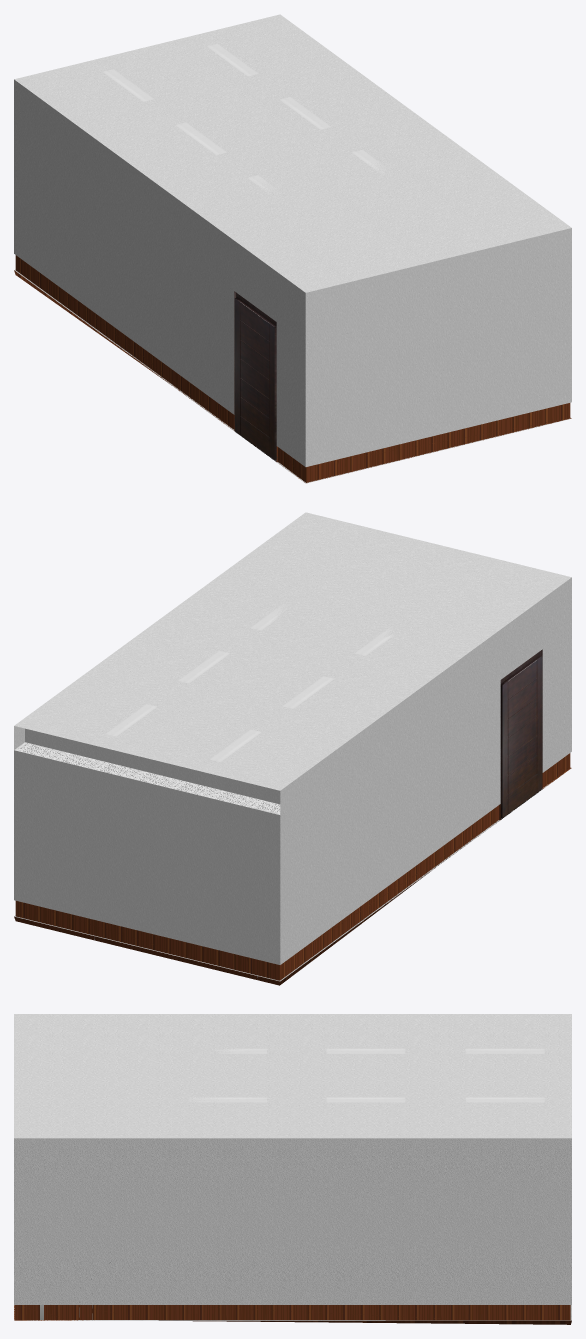
File: medical Room.fbx
3 renders of one model, top to bottom at view 1: azimuth 30°, elevation 25°; view 2: azimuth 150°, elevation 25°; view 3: azimuth 270°, elevation 25°, orthographic. The views are drawn at different scales.
Parts seen in each view (by area): view 1: Cube, Cube.002, Cube.001; view 2: Cube, Cube.002, Cube.001; view 3: Cube, Light1On.005, Light1On.007, Light1On.002, Light1On.006, Light1On.004.
Part boxes in pixels (<box>): Cube: <box>14,14,571,483</box>; Cube.002: <box>234,298,274,459</box>; Cube.001: <box>234,291,277,461</box>; Cube: <box>14,512,571,985</box>; Cube.002: <box>502,656,542,817</box>; Cube.001: <box>499,649,542,819</box>; Cube: <box>14,1014,571,1324</box>; Light1On.005: <box>465,1097,544,1102</box>; Light1On.007: <box>326,1097,405,1102</box>; Light1On.002: <box>465,1048,544,1053</box>; Light1On.006: <box>326,1048,405,1053</box>; Light1On.004: <box>188,1097,266,1102</box>.
Bounding box in the file's own units: 520 × 363 × 983.
